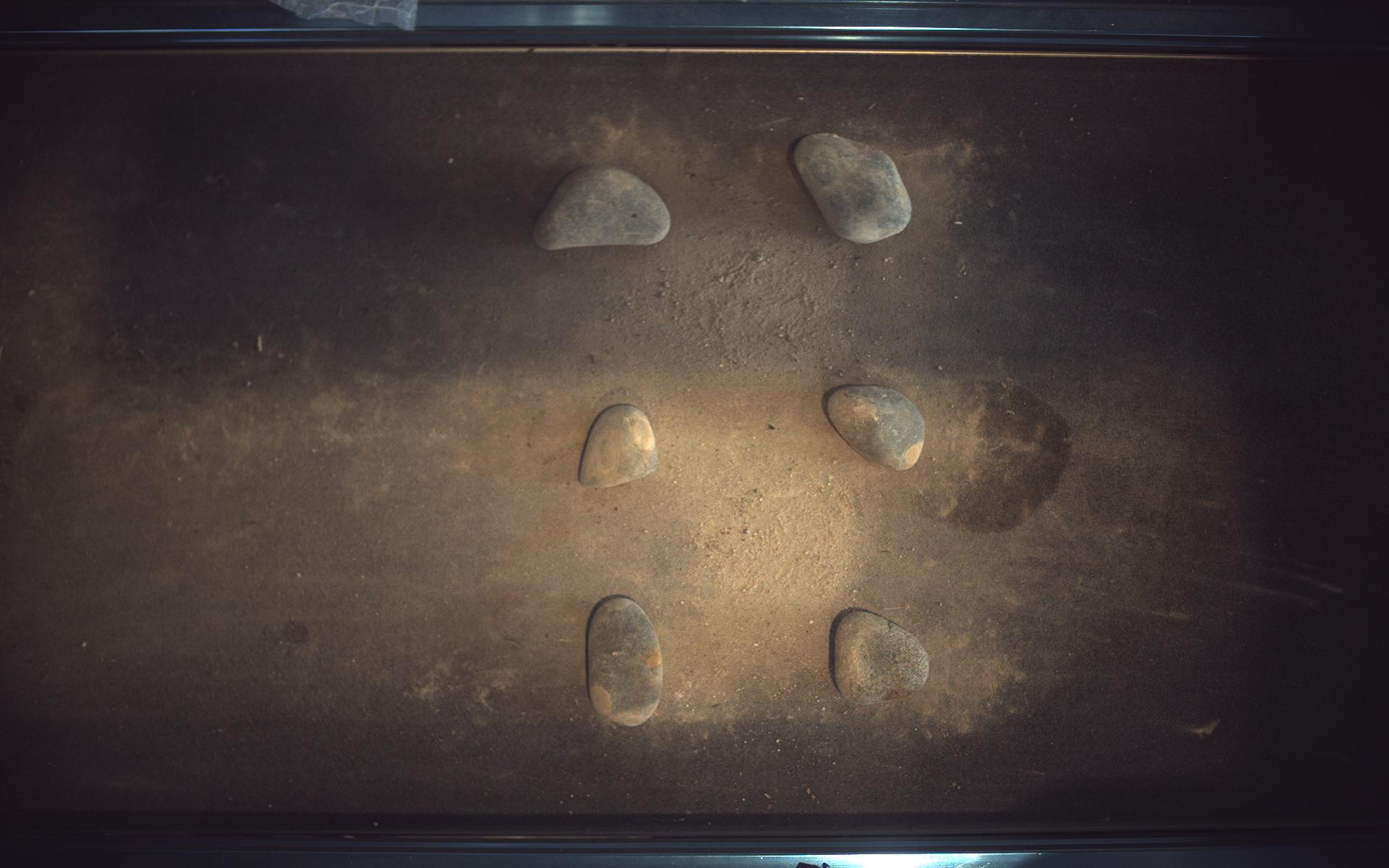stone: (797, 132, 913, 242), (534, 164, 671, 250), (587, 596, 664, 728), (831, 609, 931, 707), (828, 385, 926, 470), (580, 404, 659, 488)
